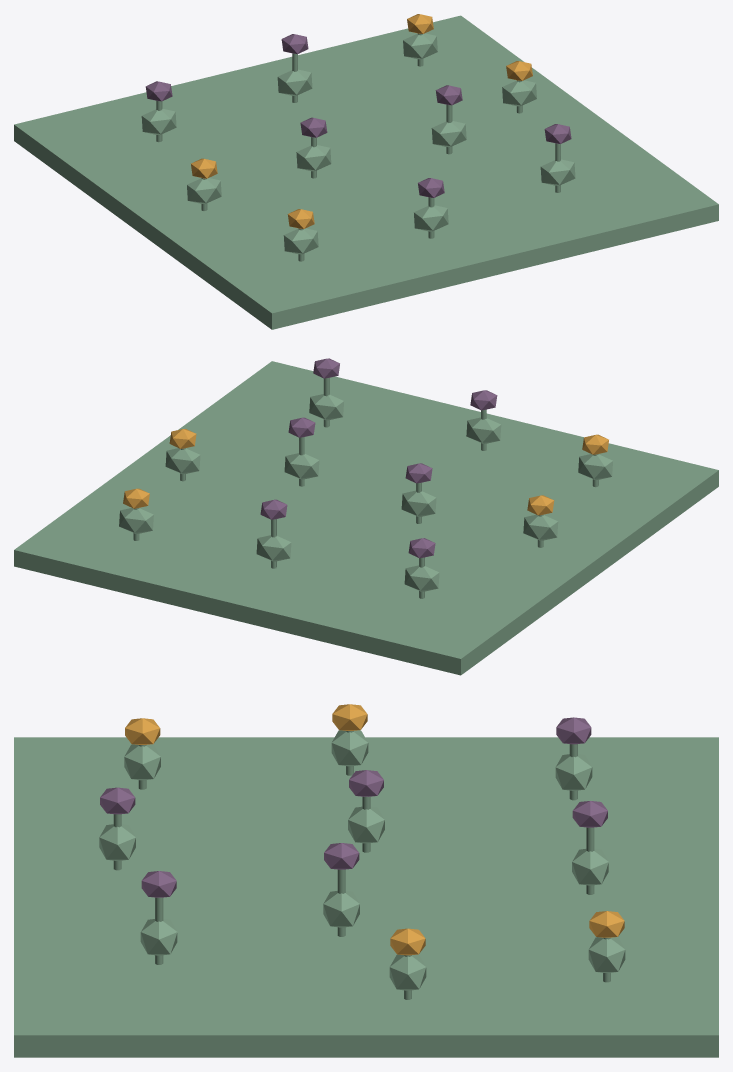
File: vegetation_flowers.glb
3 renders of one model, top to bottom at view 1: azimuth 30°, elevation 25°; view 2: azimuth 150°, elevation 25°; view 3: azimuth 270°, elevation 25°, orthographic. The views are drawn at different scales.
Parts seen in each view (by area): view 1: vegetation_flowers pine, vegetation_flowers leaf, vegetation_flowers plum, vegetation_flowers ochre; view 2: vegetation_flowers pine, vegetation_flowers leaf, vegetation_flowers plum, vegetation_flowers ochre; view 3: vegetation_flowers pine, vegetation_flowers leaf, vegetation_flowers plum, vegetation_flowers ochre.
Part boxes in pixels (x1=…): vegetation_flowers pine: x1=14, y1=15, x2=718, y2=329; vegetation_flowers leaf: x1=141, y1=33, x2=575, y2=254; vegetation_flowers plum: x1=145, y1=34, x2=571, y2=197; vegetation_flowers ochre: x1=191, y1=14, x2=532, y2=228; vegetation_flowers pine: x1=14, y1=361, x2=718, y2=675; vegetation_flowers leaf: x1=119, y1=394, x2=612, y2=591; vegetation_flowers plum: x1=260, y1=358, x2=497, y2=558; vegetation_flowers ochre: x1=123, y1=428, x2=608, y2=515; vegetation_flowers pine: x1=14, y1=731, x2=718, y2=1057; vegetation_flowers leaf: x1=99, y1=730, x2=625, y2=990; vegetation_flowers plum: x1=100, y1=717, x2=607, y2=897; vegetation_flowers ochre: x1=125, y1=704, x2=624, y2=955.
Bounding box in the file's own units: 0.85 × 0.153 × 0.85.
